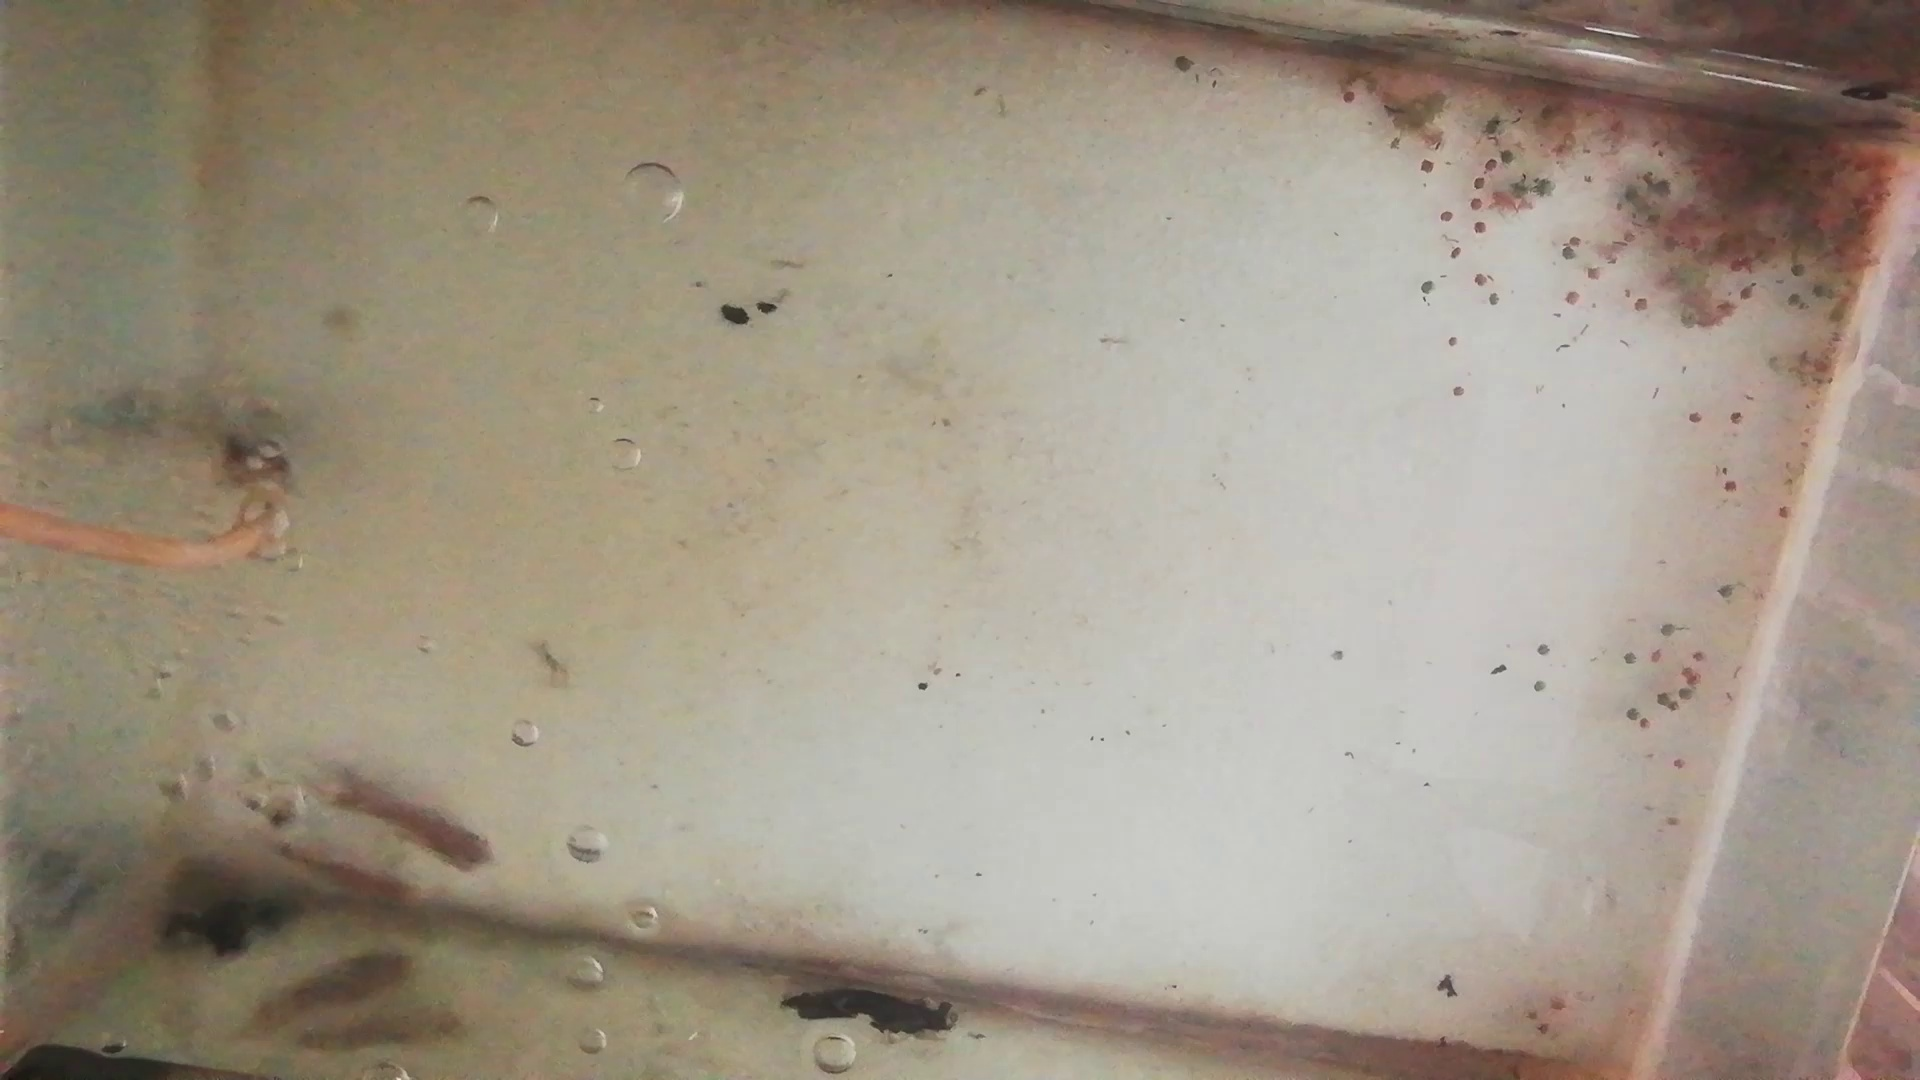fish: (298, 769, 501, 872), (272, 843, 430, 913)
